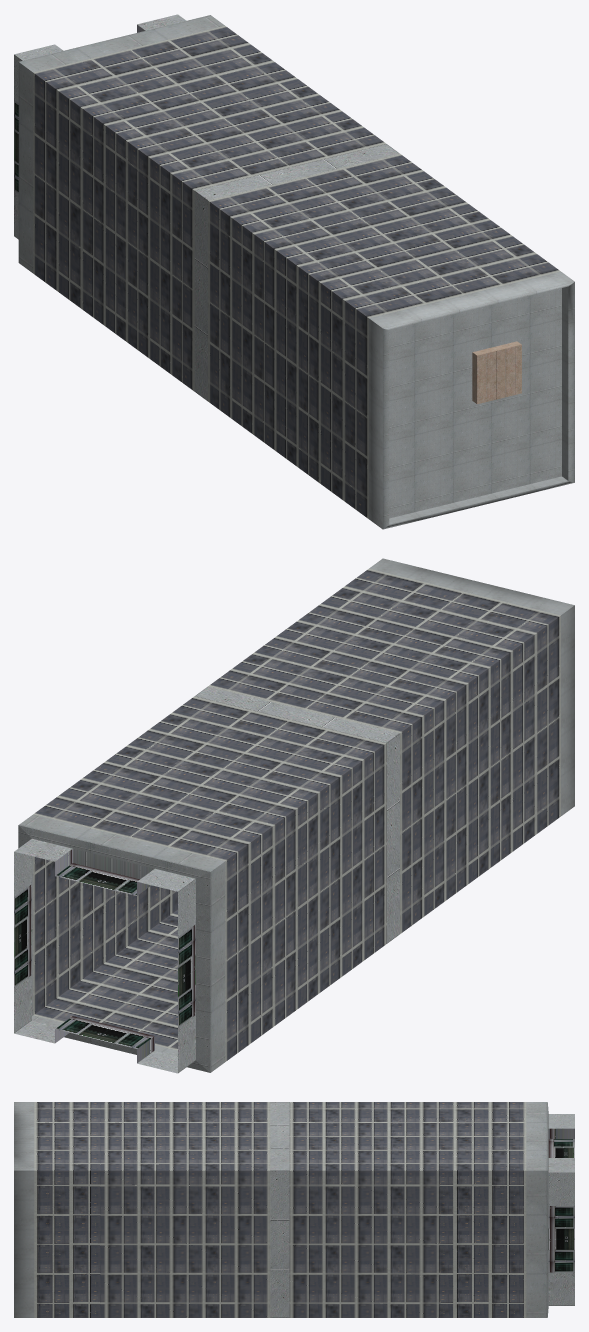
Rendered from skyscraper_windowC_01.obj.
3 renders of one model, top to bottom at view 1: azimuth 30°, elevation 25°; view 2: azimuth 150°, elevation 25°; view 3: azimuth 270°, elevation 25°, orthographic. The views are drawn at different scales.
Visible parts, largest first — view 1: Zone_4x4_SeaWall_C_07; view 2: Zone_4x4_SeaWall_C_07; view 3: Zone_4x4_SeaWall_C_07.
Part boxes in pixels (x1,y1,x2,y2): Zone_4x4_SeaWall_C_07: [14, 14, 574, 529]; Zone_4x4_SeaWall_C_07: [14, 558, 574, 1073]; Zone_4x4_SeaWall_C_07: [14, 1102, 574, 1317].
Size of the model in its own units: 40 by 40 by 138.
4 materials, 4 textured.
